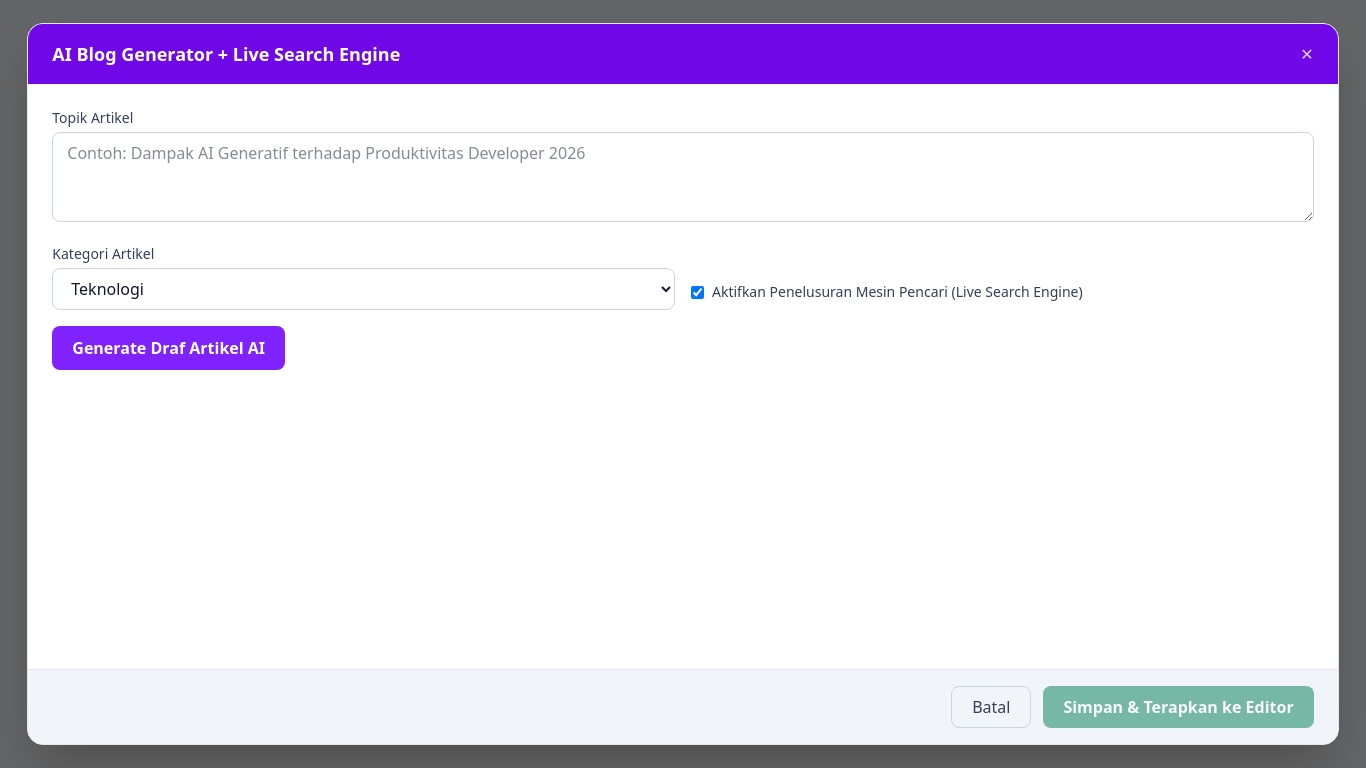
Test: AiPostGeneratorModal › returns null when closed, generates article with search sources, and applies draft
This screenshot has width=1366, height=768.
Later steps or results of the test are not shown.
In the text box labelled "Topik Artikel": (683, 177) [52,132,1314,222], type "Tren AI 2026"
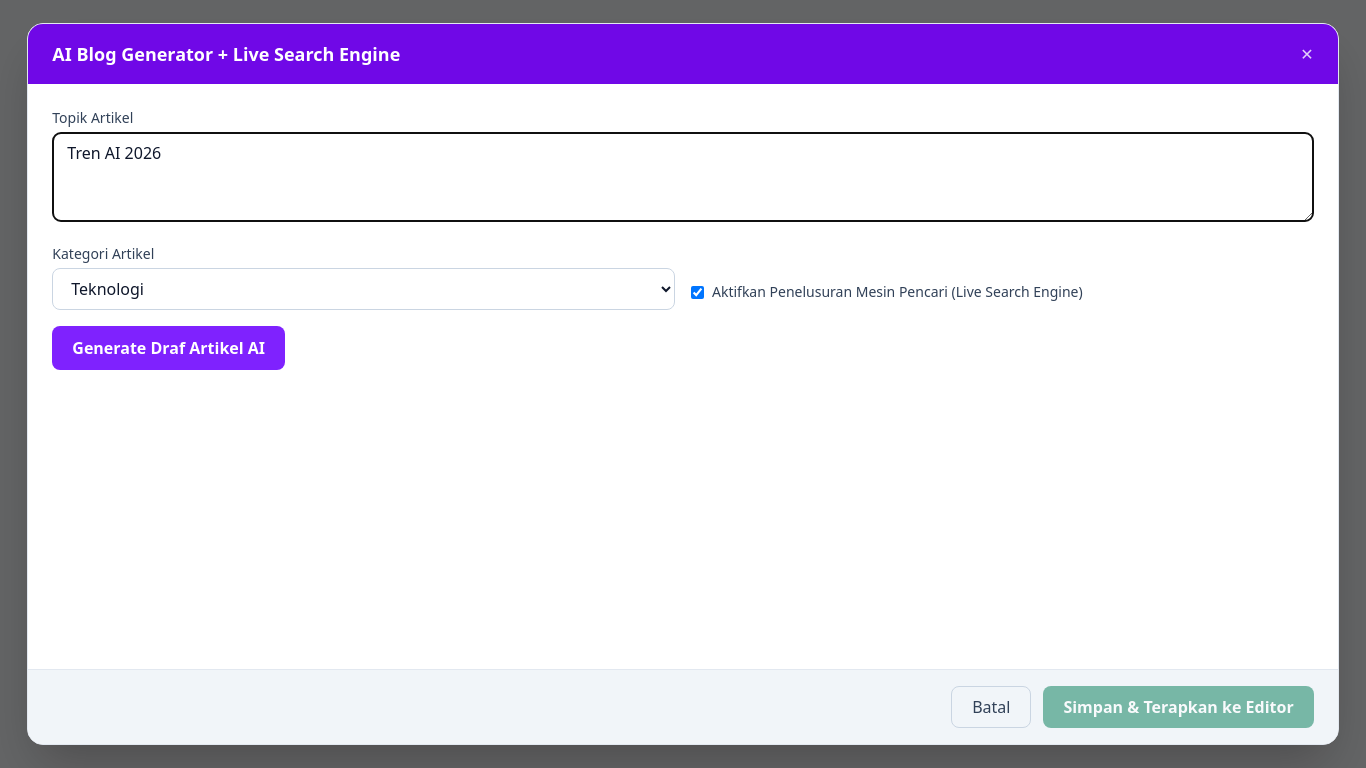
Select "Bisnis" in the dropdown labelled "Kategori Artikel": (364, 289) [52,268,675,310]
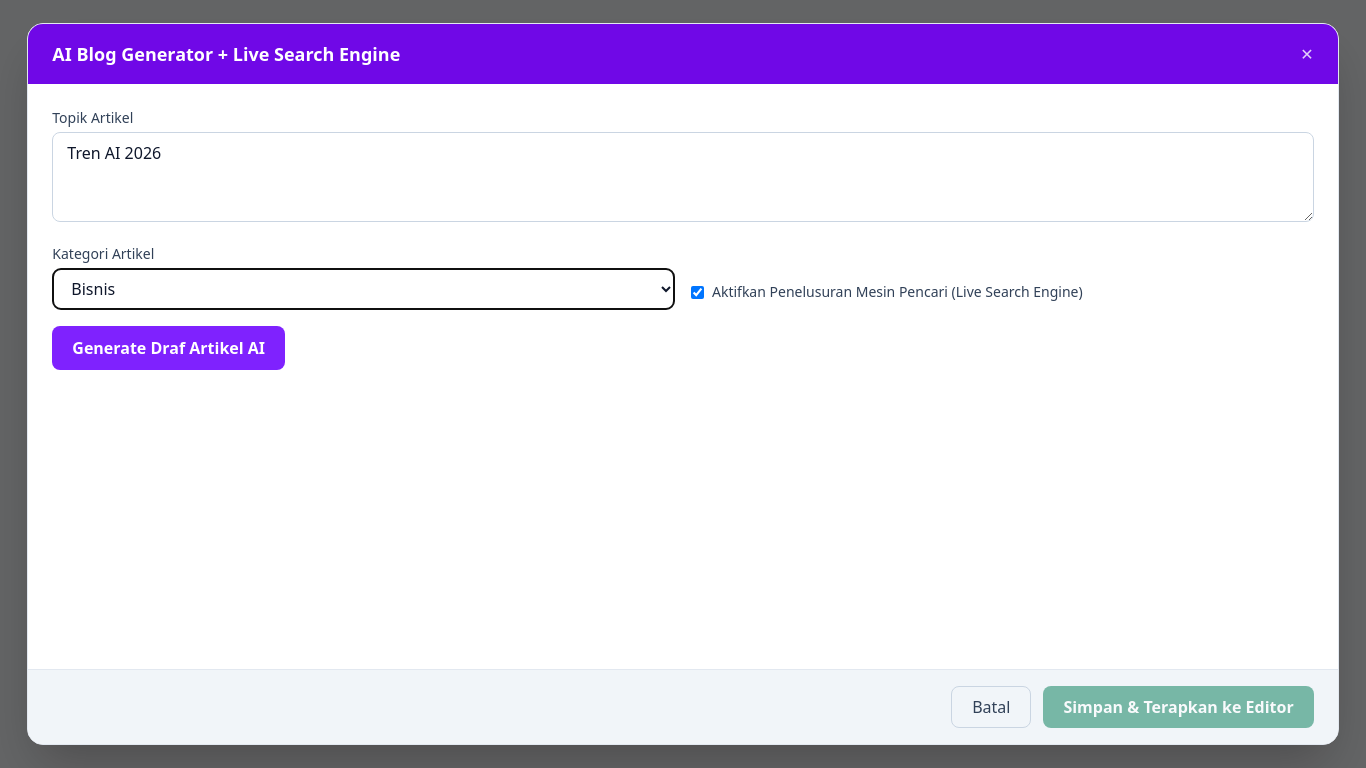
Click the checkbox labelled "Aktifkan Penelusuran Mesin Pencari (Live Search Engine)": (698, 292) [691,286,704,298]
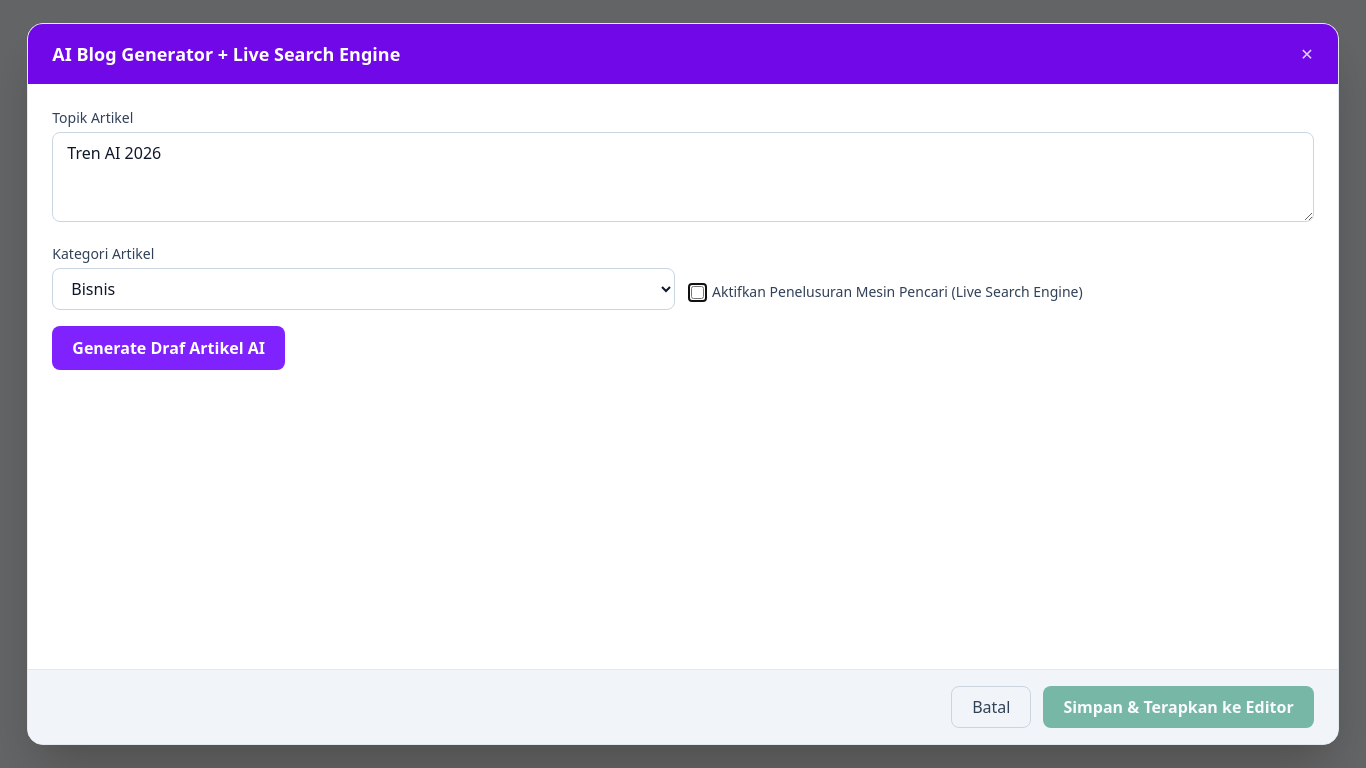
Click the button "Generate Draf Artikel AI": (169, 348) [52,326,285,370]
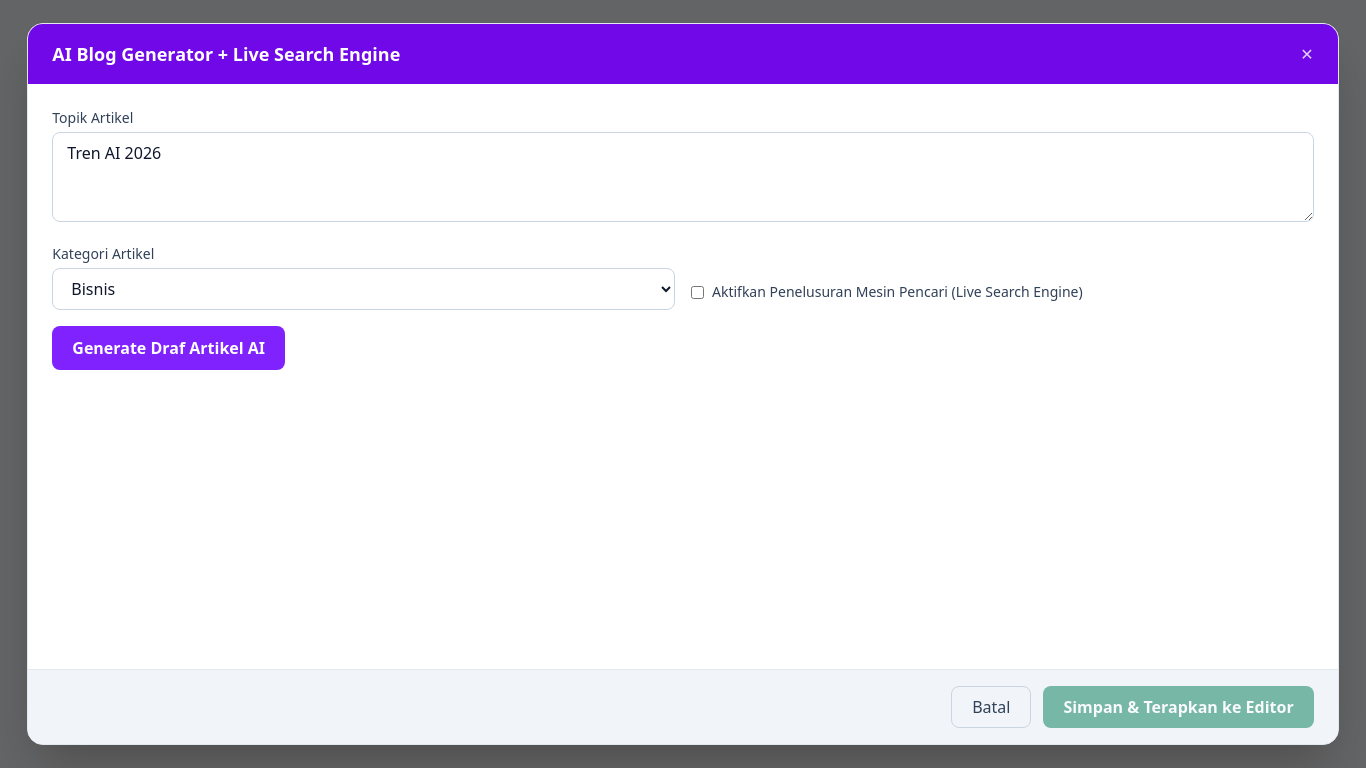
Click the button "Generate Draf Artikel AI": (169, 348) [52,326,285,370]
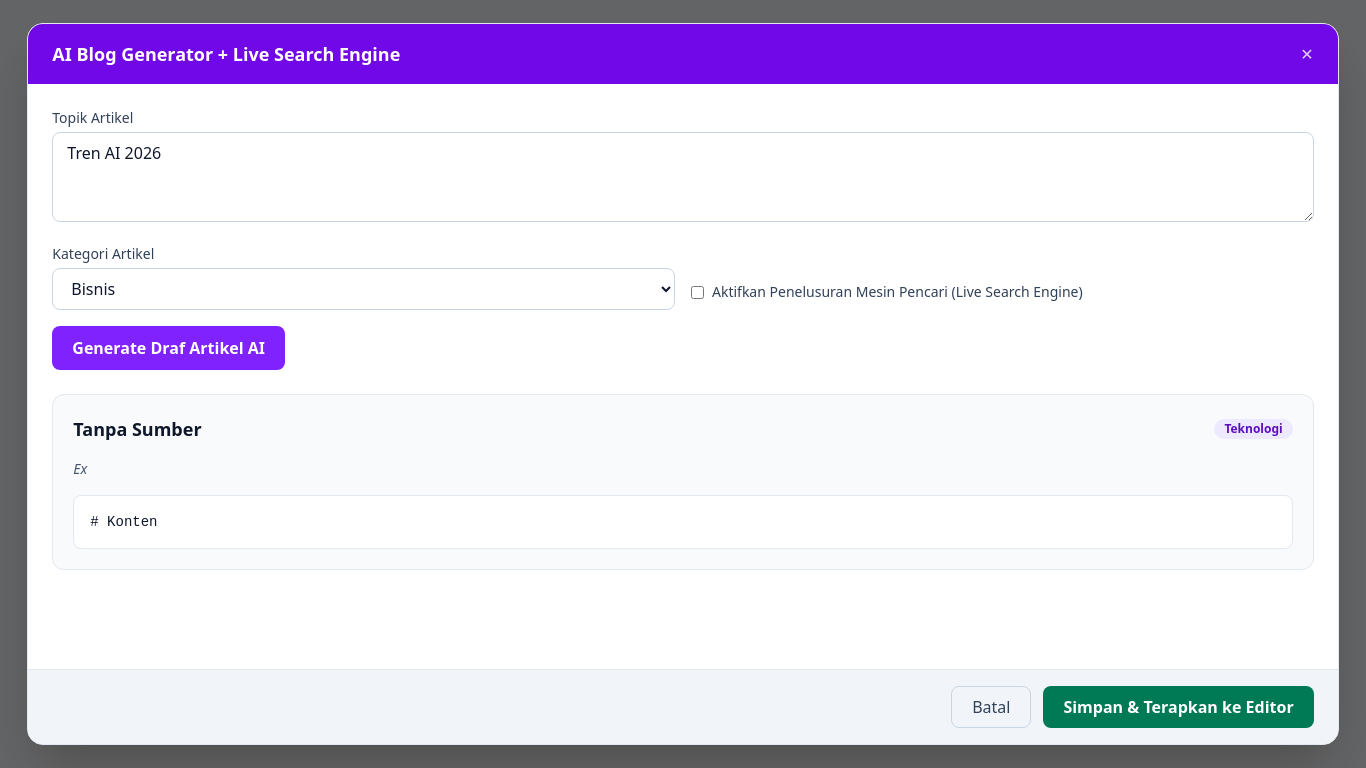
Check: the heading "Tanpa Sumber" is shown, box [73,415,202,443]
Click the button "Generate Draf Artikel AI": (169, 348) [52,326,285,370]
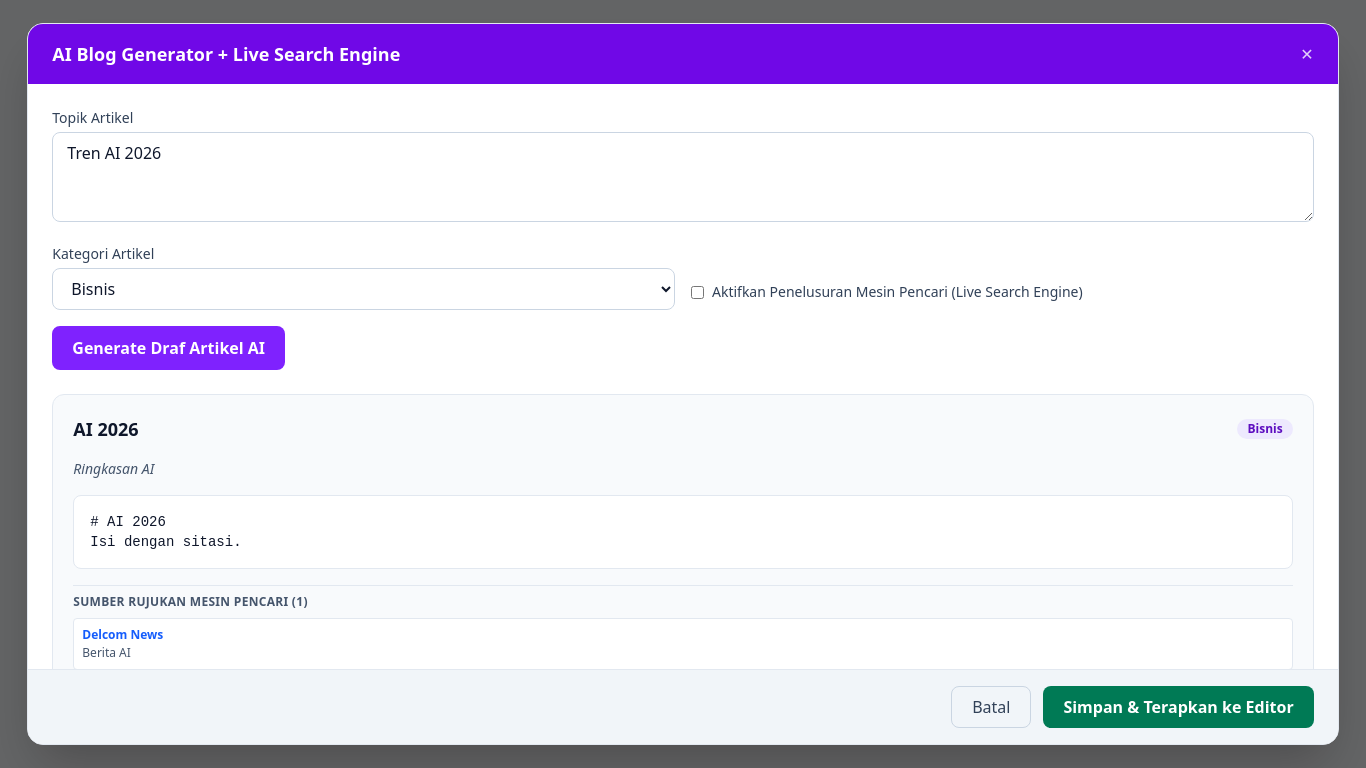
Check: the heading "AI 2026" is shown, box [73,415,139,443]
Check: the link "Delcom News" is shown, box [82,626,163,643]
